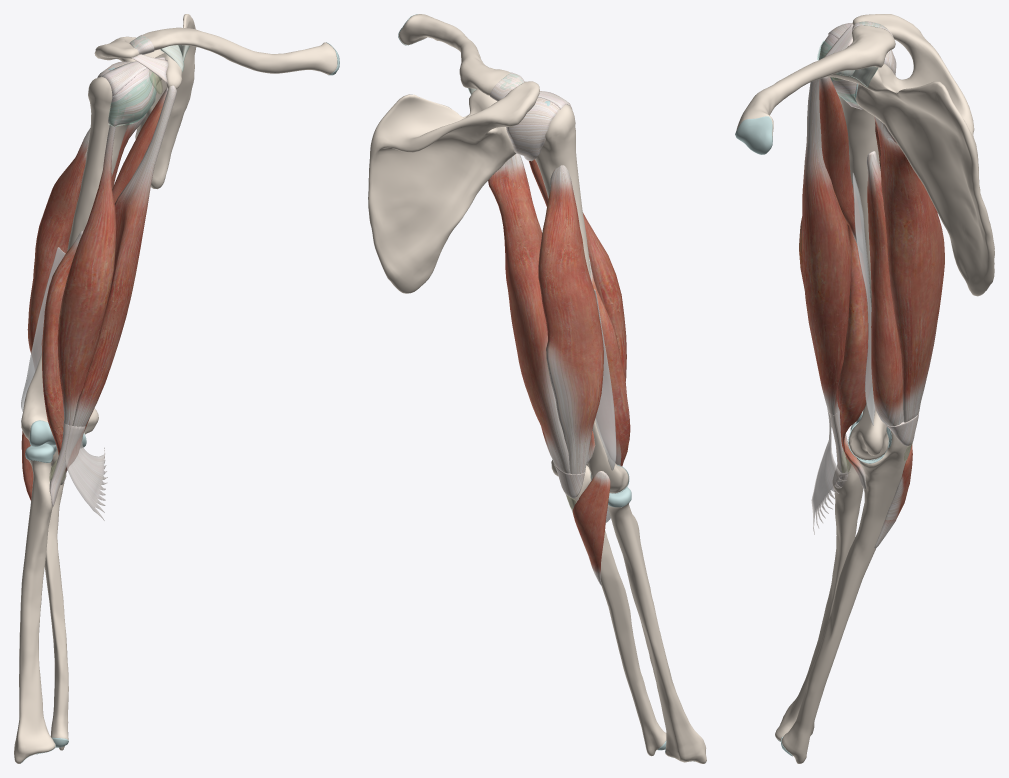
Rendered from upper-limb-arm-muscles.glb.
The picture shows the model from 3 angles, left to right: view 1: azimuth 30°, elevation 25°; view 2: azimuth 150°, elevation 25°; view 3: azimuth 270°, elevation 25°; orthographic projection. The views are drawn at different scales.
Visible parts, largest first — view 1: Long head of biceps brachii.r, Short head of biceps brachii.r, Radius.r, Lateral head of triceps brachii.r, Humerus.r, Clavicle.r, Scapula.r., Ulna.r, Brachialis muscle.r, Bicipital aponeurosis.r, Articular capsule of glenohumeral joint.r, Coracobrachialis muscle.r (+4 smaller); view 2: Scapula.r., Lateral head of triceps brachii.r, Long head of triceps brachii.r, Radius.r, Ulna.r, Humerus.r, Brachialis muscle.r, Clavicle.r, Anconeus muscle.r, Long head of biceps brachii.r, Articular capsule of glenohumeral joint.r, Lateral intermuscular septum of arm.r; view 3: Scapula.r., Long head of triceps brachii.r, Short head of biceps brachii.r, Ulna.r, Medial head of triceps brachii.r, Brachialis muscle.r, Humerus.r, Clavicle.r, Coracobrachialis muscle.r, Radius.r, Medial intermuscular septum of arm.r, Bicipital aponeurosis.r (+5 smaller).
Part boxes in pixels (box(x1,y1,x2,y2)): Long head of biceps brachii.r: box(57, 125, 116, 425); Short head of biceps brachii.r: box(72, 85, 176, 426); Radius.r: box(14, 459, 55, 763); Lateral head of triceps brachii.r: box(27, 128, 90, 369); Humerus.r: box(21, 77, 129, 441); Clavicle.r: box(143, 27, 337, 74); Scapula.r.: box(94, 14, 196, 189); Ulna.r: box(44, 449, 68, 750); Brachialis muscle.r: box(42, 231, 94, 484); Bicipital aponeurosis.r: box(65, 425, 107, 520); Articular capsule of glenohumeral joint.r: box(97, 61, 156, 126); Coracobrachialis muscle.r: box(112, 87, 167, 202); Scapula.r.: box(368, 81, 539, 293); Lateral head of triceps brachii.r: box(538, 165, 603, 474); Long head of triceps brachii.r: box(488, 153, 570, 473); Radius.r: box(608, 502, 706, 763); Ulna.r: box(565, 465, 666, 756); Humerus.r: box(535, 104, 628, 493); Brachialis muscle.r: box(589, 257, 630, 466); Clavicle.r: box(399, 14, 510, 95); Anconeus muscle.r: box(573, 471, 610, 585); Long head of biceps brachii.r: box(583, 213, 626, 381); Articular capsule of glenohumeral joint.r: box(506, 97, 559, 161); Lateral intermuscular septum of arm.r: box(594, 289, 616, 470); Scapula.r.: box(826, 14, 994, 296); Long head of triceps brachii.r: box(874, 116, 944, 422); Short head of biceps brachii.r: box(802, 79, 851, 415); Ulna.r: box(781, 430, 911, 763); Medial head of triceps brachii.r: box(866, 151, 903, 426); Brachialis muscle.r: box(836, 224, 871, 489); Humerus.r: box(837, 94, 888, 459); Clavicle.r: box(736, 25, 895, 139); Coracobrachialis muscle.r: box(819, 77, 862, 252); Radius.r: box(775, 458, 863, 740); Medial intermuscular septum of arm.r: box(852, 172, 874, 425); Bicipital aponeurosis.r: box(811, 408, 850, 534).
Bounding box in the file's own units: 0.2782 × 0.5664 × 0.1651.
18 materials, 7 textured.
